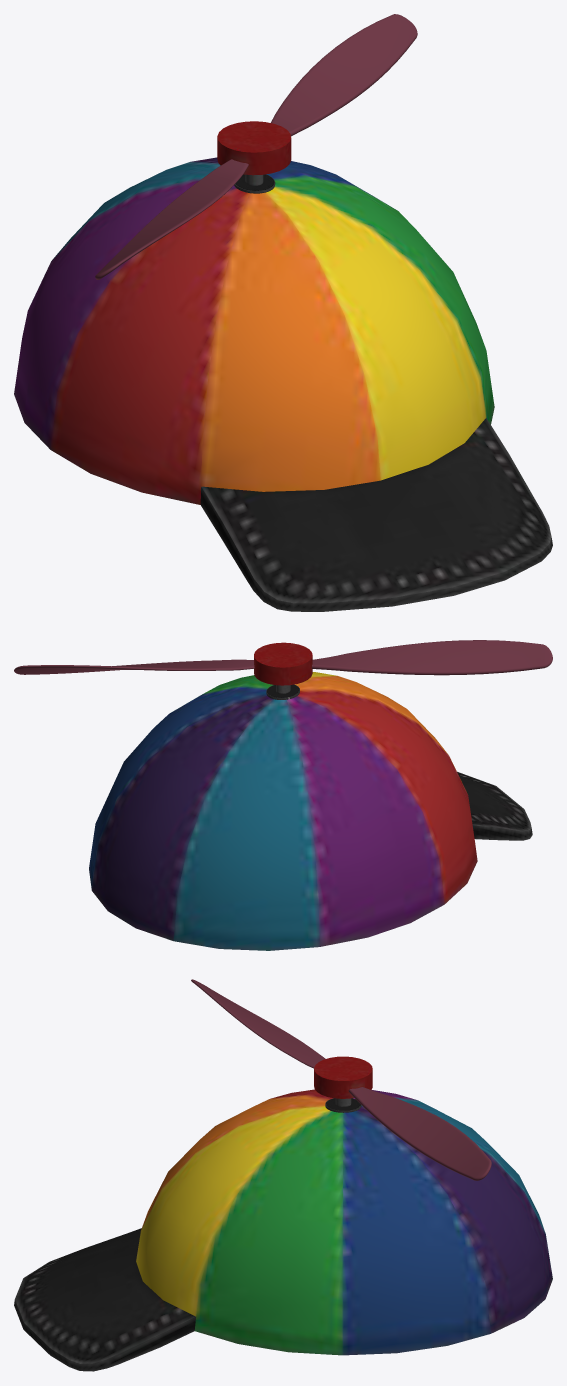
Rendered from hat.glb.
The picture shows the model from 3 angles, top to bottom: view 1: azimuth 30°, elevation 25°; view 2: azimuth 150°, elevation 25°; view 3: azimuth 270°, elevation 25°; orthographic projection. The views are drawn at different scales.
Visible parts, largest first — view 1: Hat, Propeller; view 2: Hat, Propeller; view 3: Hat, Propeller.
Boxes of the visible parts, x1=… form: Hat: x1=14, y1=121, x2=552, y2=611; Propeller: x1=95, y1=14, x2=417, y2=279; Hat: x1=89, y1=642, x2=532, y2=950; Propeller: x1=14, y1=640, x2=552, y2=675; Hat: x1=14, y1=1056, x2=552, y2=1371; Propeller: x1=191, y1=979, x2=491, y2=1180.
Bounding box in the file's own units: 22.24 × 13.72 × 26.46.
1 material, 1 textured.
